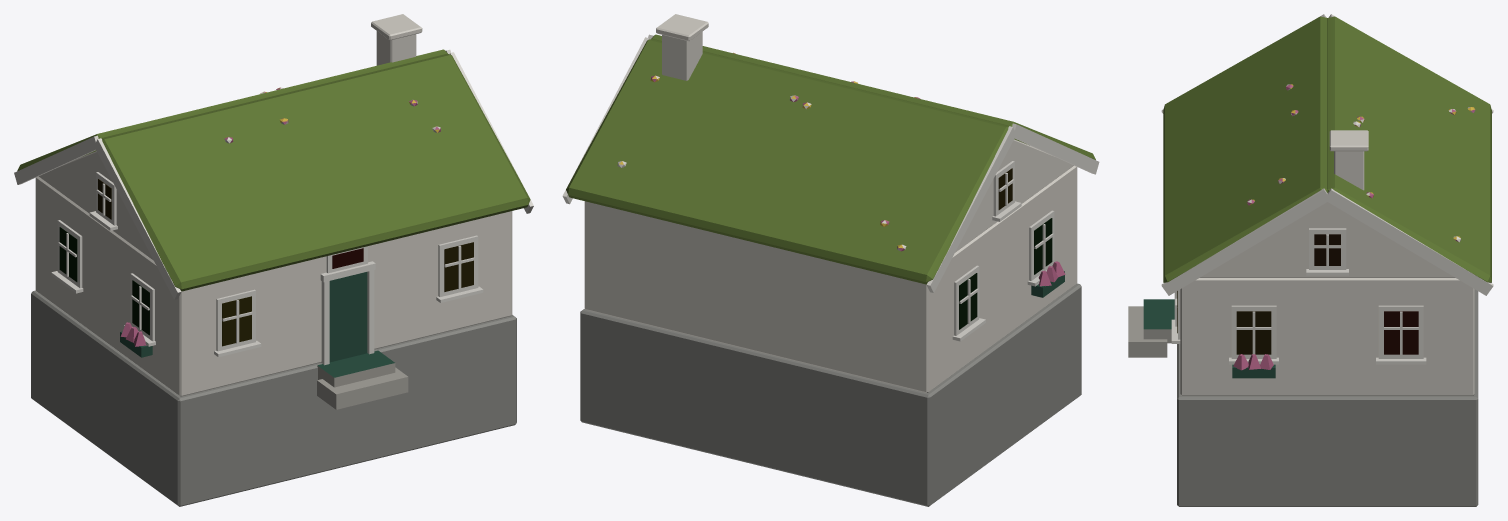
The model's file is house_e_turf_cottage.glb.
3 views of the same model, side by side, from view 1: azimuth 30°, elevation 25°; view 2: azimuth 150°, elevation 25°; view 3: azimuth 270°, elevation 25° (orthographic). The views are drawn at different scales.
Visible parts, largest first — view 1: house_e_turf_cottage_roof, house_e_turf_cottage_plinth, house_e_turf_cottage_walls, house_e_turf_cottage_trim, house_e_turf_cottage_door, house_e_turf_cottage_glass, house_e_turf_cottage_chimney; view 2: house_e_turf_cottage_roof, house_e_turf_cottage_plinth, house_e_turf_cottage_walls, house_e_turf_cottage_trim, house_e_turf_cottage_chimney, house_e_turf_cottage_glass; view 3: house_e_turf_cottage_roof, house_e_turf_cottage_walls, house_e_turf_cottage_plinth, house_e_turf_cottage_trim, house_e_turf_cottage_glass, house_e_turf_cottage_door, house_e_turf_cottage_chimney, house_e_turf_cottage_fflowers, house_e_turf_cottage_fbox.
Part boxes in pixels (x1=…): house_e_turf_cottage_roof: x1=17, y1=49, x2=530, y2=291; house_e_turf_cottage_plinth: x1=31, y1=290, x2=516, y2=506; house_e_turf_cottage_walls: x1=35, y1=151, x2=512, y2=396; house_e_turf_cottage_trim: x1=14, y1=49, x2=533, y2=365; house_e_turf_cottage_door: x1=317, y1=272, x2=408, y2=409; house_e_turf_cottage_glass: x1=59, y1=179, x2=473, y2=346; house_e_turf_cottage_chimney: x1=371, y1=14, x2=422, y2=65; house_e_turf_cottage_roof: x1=566, y1=34, x2=1095, y2=284; house_e_turf_cottage_plinth: x1=580, y1=283, x2=1081, y2=506; house_e_turf_cottage_walls: x1=584, y1=139, x2=1077, y2=392; house_e_turf_cottage_trim: x1=562, y1=34, x2=1099, y2=341; house_e_turf_cottage_chimney: x1=656, y1=14, x2=708, y2=80; house_e_turf_cottage_glass: x1=959, y1=168, x2=1052, y2=329; house_e_turf_cottage_roof: x1=1163, y1=16, x2=1491, y2=282; house_e_turf_cottage_walls: x1=1180, y1=202, x2=1474, y2=395; house_e_turf_cottage_plinth: x1=1177, y1=289, x2=1478, y2=506; house_e_turf_cottage_trim: x1=1161, y1=14, x2=1493, y2=364; house_e_turf_cottage_glass: x1=1177, y1=234, x2=1418, y2=354; house_e_turf_cottage_door: x1=1128, y1=299, x2=1174, y2=357; house_e_turf_cottage_chimney: x1=1329, y1=130, x2=1368, y2=190; house_e_turf_cottage_fflowers: x1=1233, y1=354, x2=1273, y2=370; house_e_turf_cottage_fbox: x1=1232, y1=364, x2=1275, y2=378.
Bounding box in the file's own units: 9.92 × 8.97 × 8.43.
